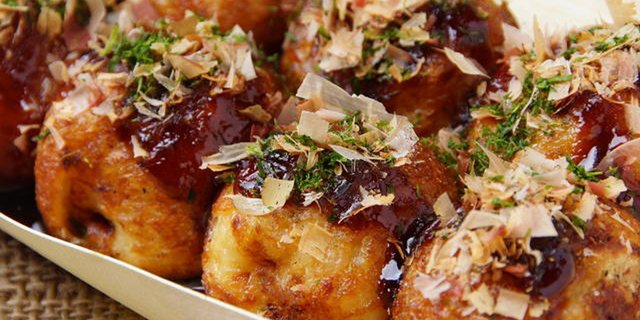takoyaki: (1, 1, 640, 320)
